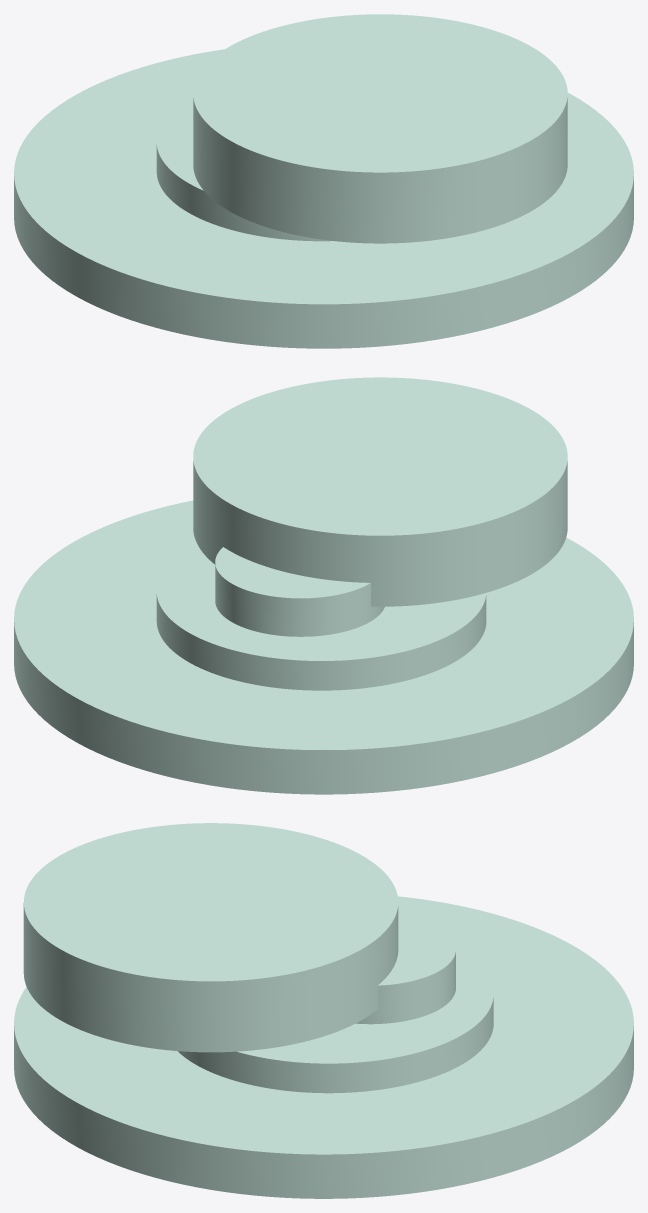
3 views of the same model, one above another, from view 1: azimuth 30°, elevation 25°; view 2: azimuth 150°, elevation 25°; view 3: azimuth 270°, elevation 25° (orthographic).
Visible parts, largest first — view 1: Renderer Node; view 2: Renderer Node; view 3: Renderer Node.
Boxes of the visible parts, left/top/right/bottom form: Renderer Node: left=14, top=14, right=633, bottom=348; Renderer Node: left=14, top=377, right=633, bottom=794; Renderer Node: left=14, top=823, right=633, bottom=1198.
Bounding box in the file's own units: 1.48 × 0.4375 × 1.48.
